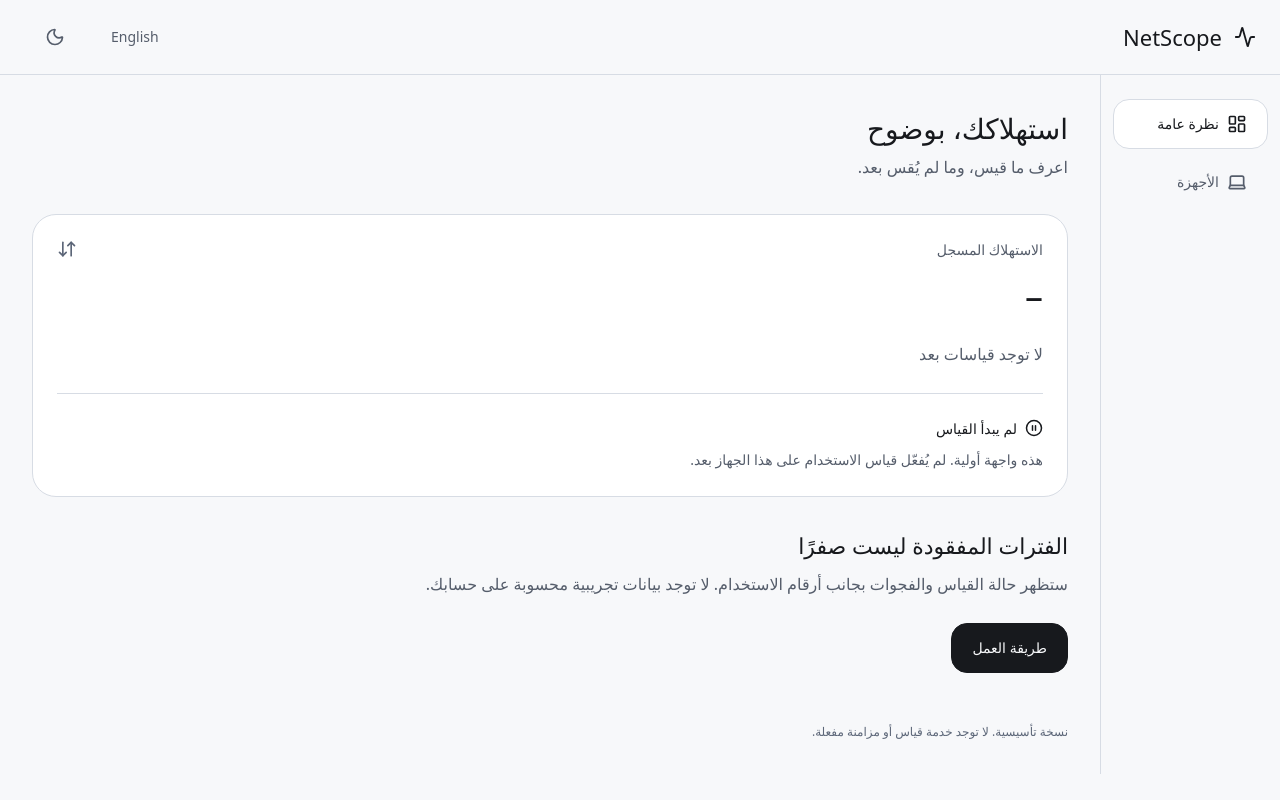
Test: truthful foundation › explains collection and device limitations without pretending to pair
Click the button "طريقة العمل": (1010, 648) [951,623,1068,673]
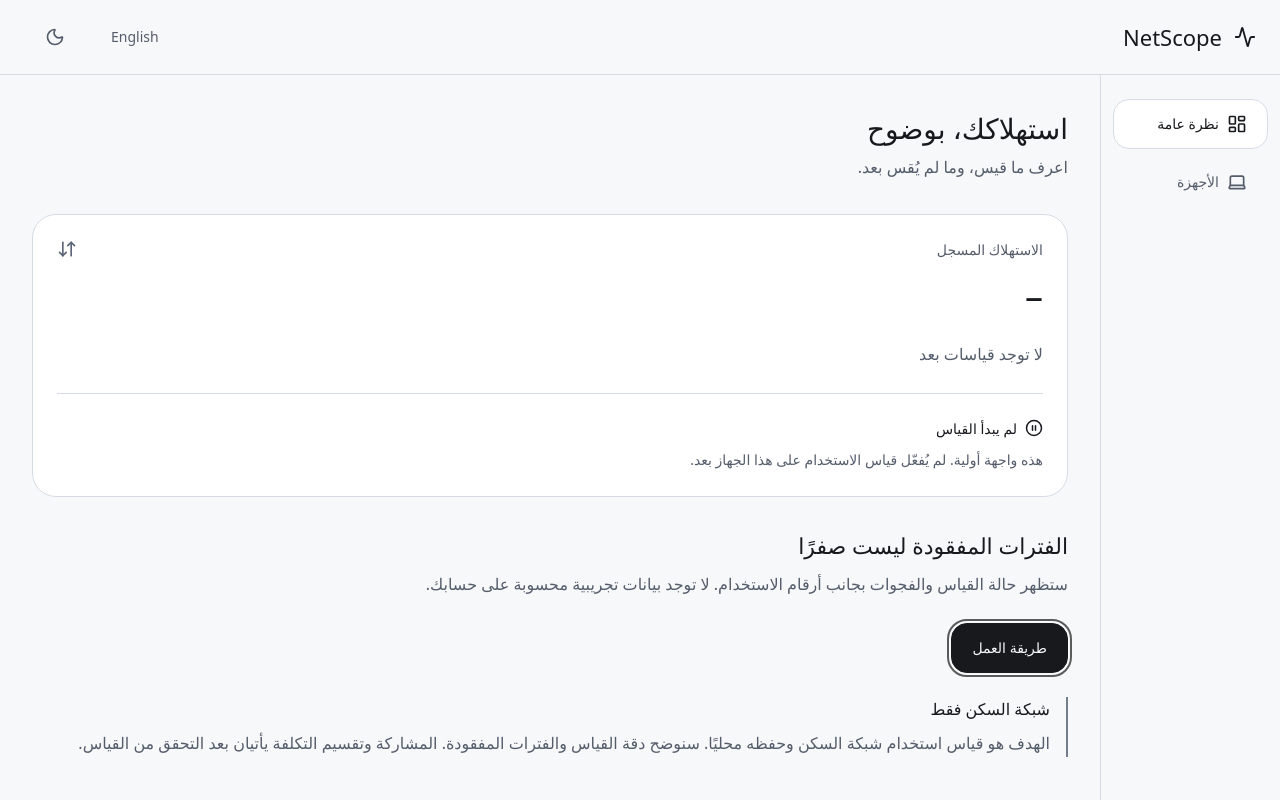
Expected: the heading "شبكة السكن فقط" is shown, [930,698,1050,720]
Click the button "الأجهزة": (1190, 182) [1113,157,1268,207]
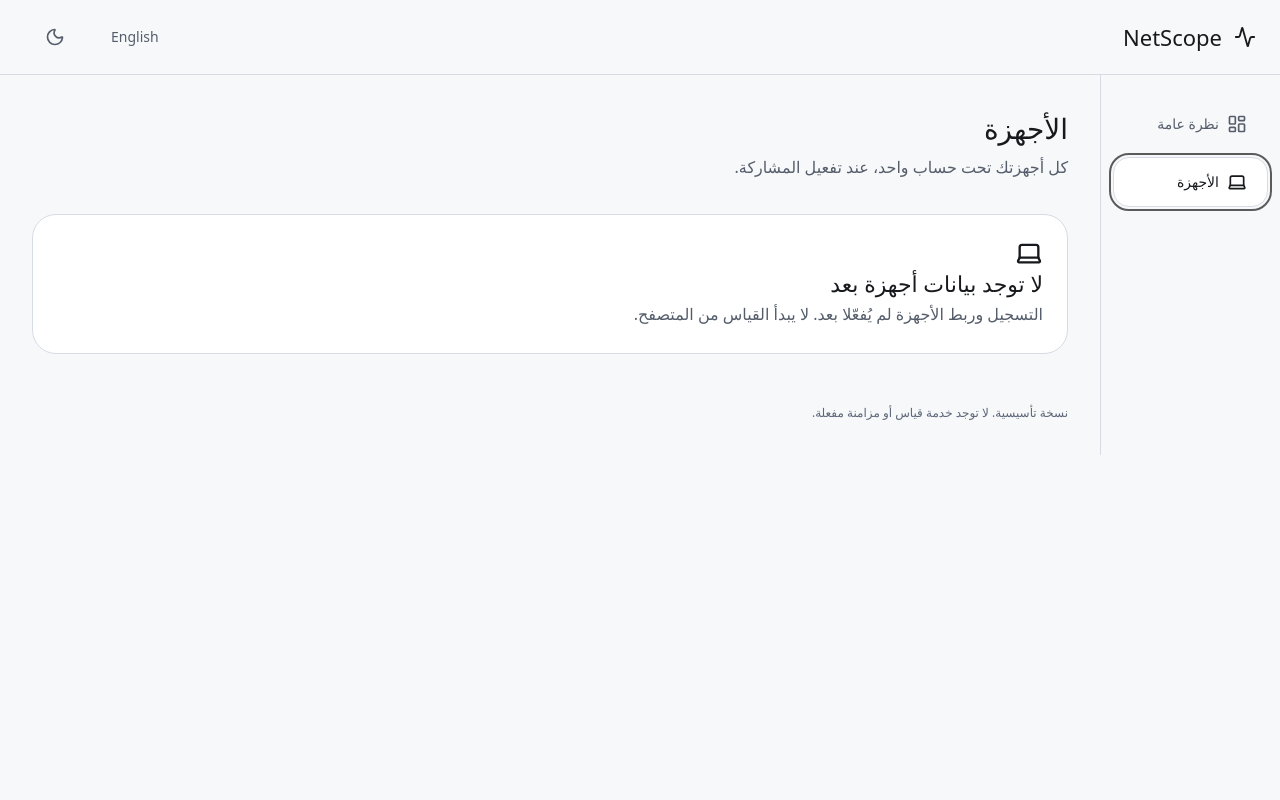
Expected: the heading "لا توجد بيانات أجهزة بعد" is shown, [830,268,1043,298]
